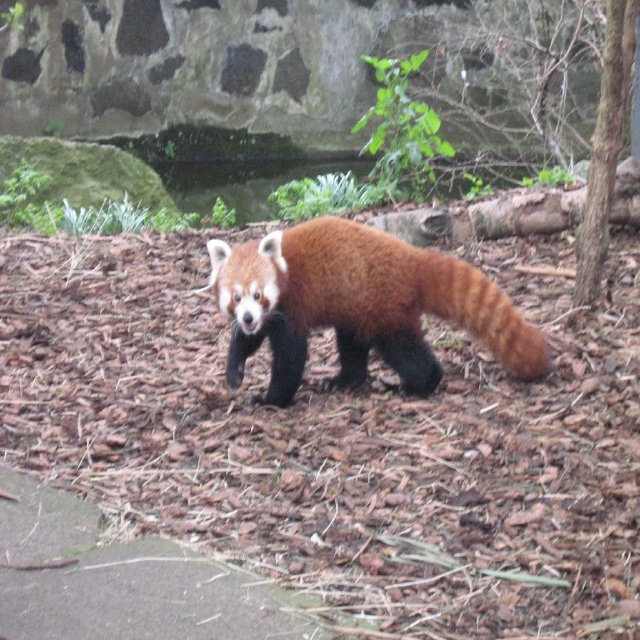Red panda: (206, 210, 554, 411)
